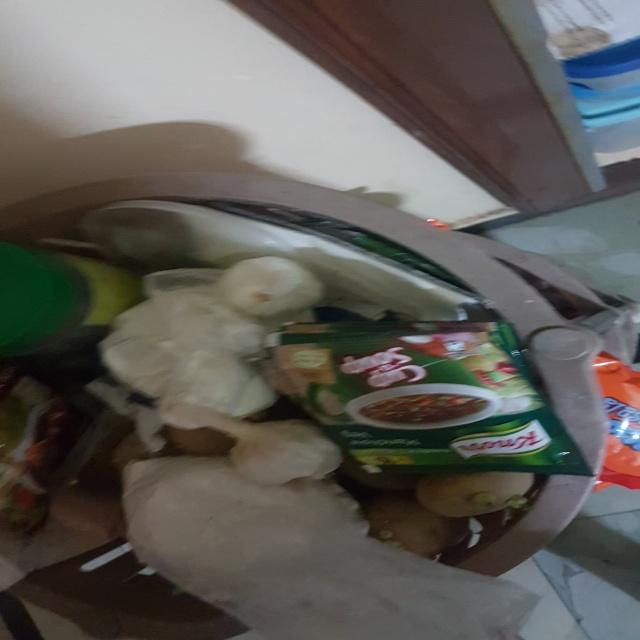garlic: (170, 399, 349, 488)
